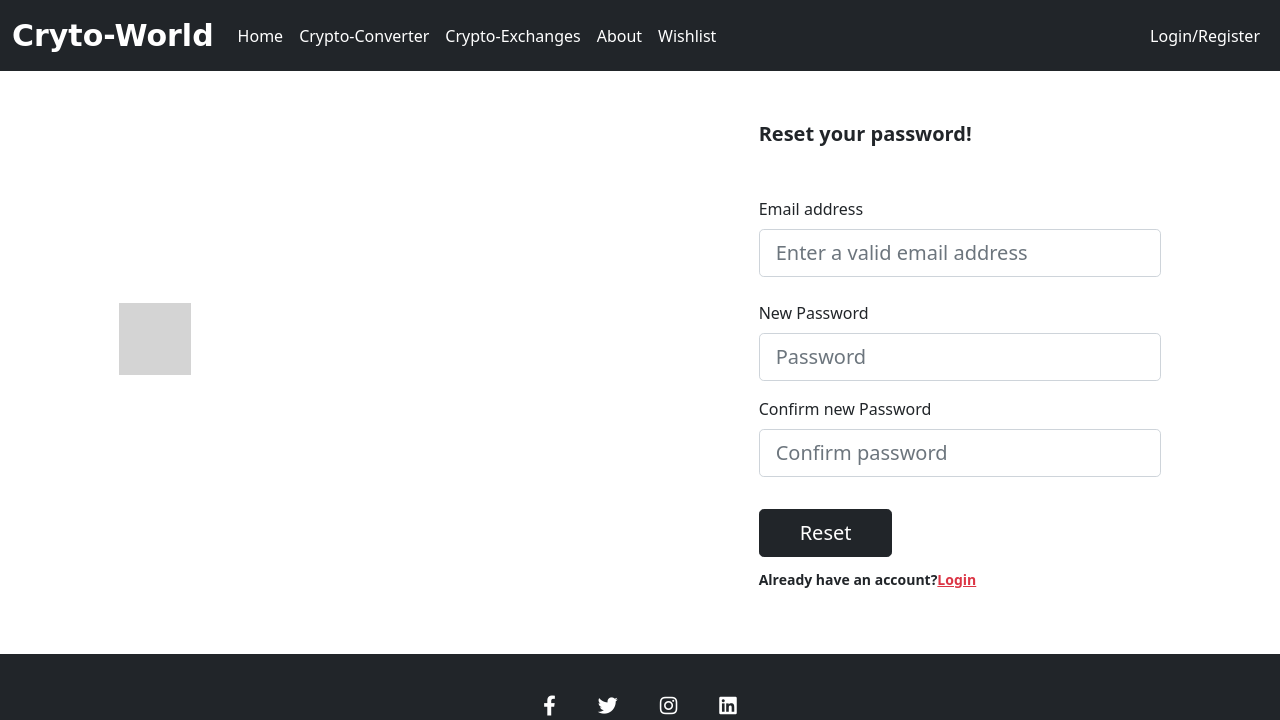
Crypto World e2e testing › Should check for reset passsword not match
Step 1. Type "tarun4@gmail.com" into the field with id "resetemail" → [961, 253], box top-left (759, 229), bottom-right (1162, 277)
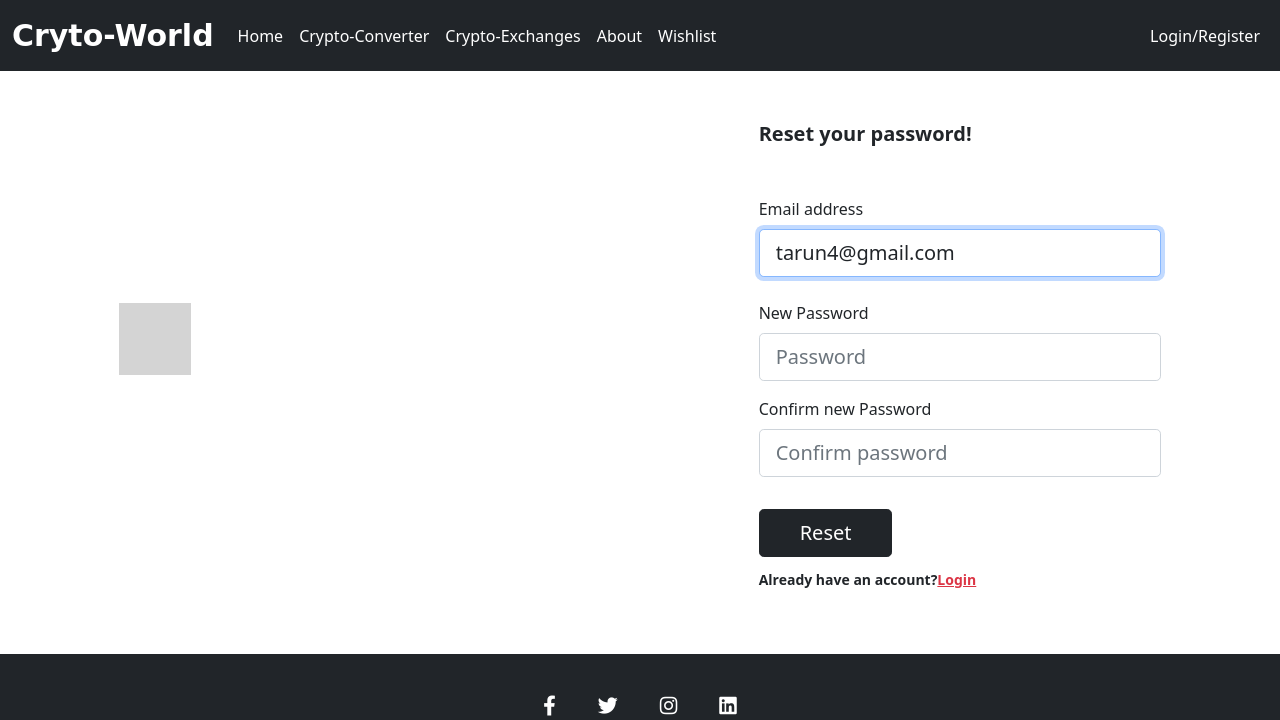
Step 2. Type "1234567" into the password field with id "newpass" → [961, 357], box top-left (759, 333), bottom-right (1162, 381)
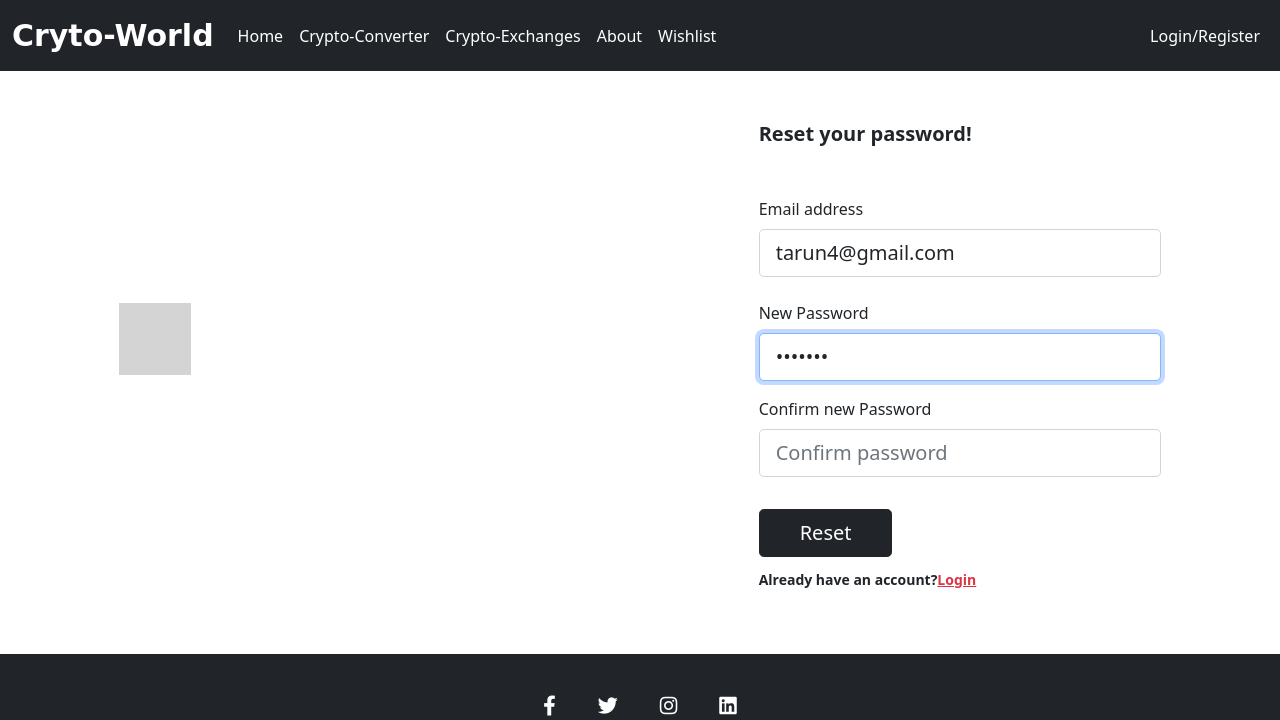
Step 3. Type "123456" into the password field with id "newconfirmpass" → [961, 453], box top-left (759, 429), bottom-right (1162, 477)
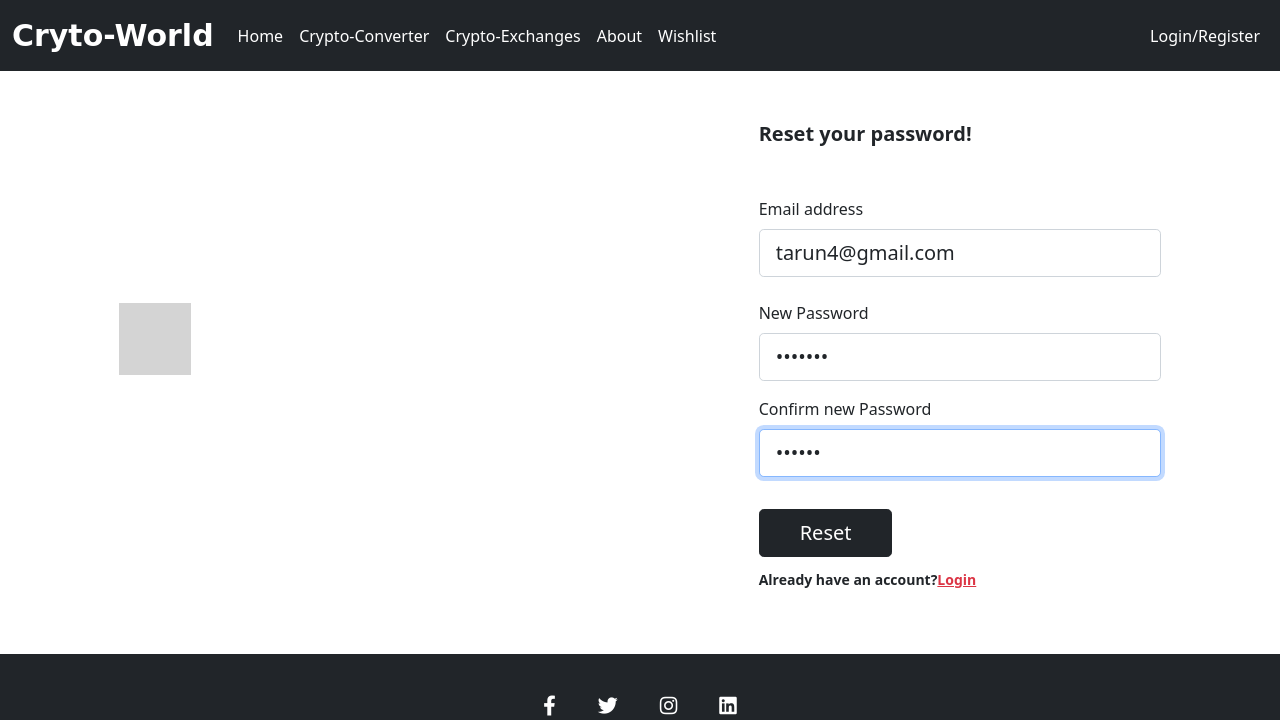
Step 4. Click the button with id "resetbtn" → [826, 533], box top-left (759, 509), bottom-right (893, 557)
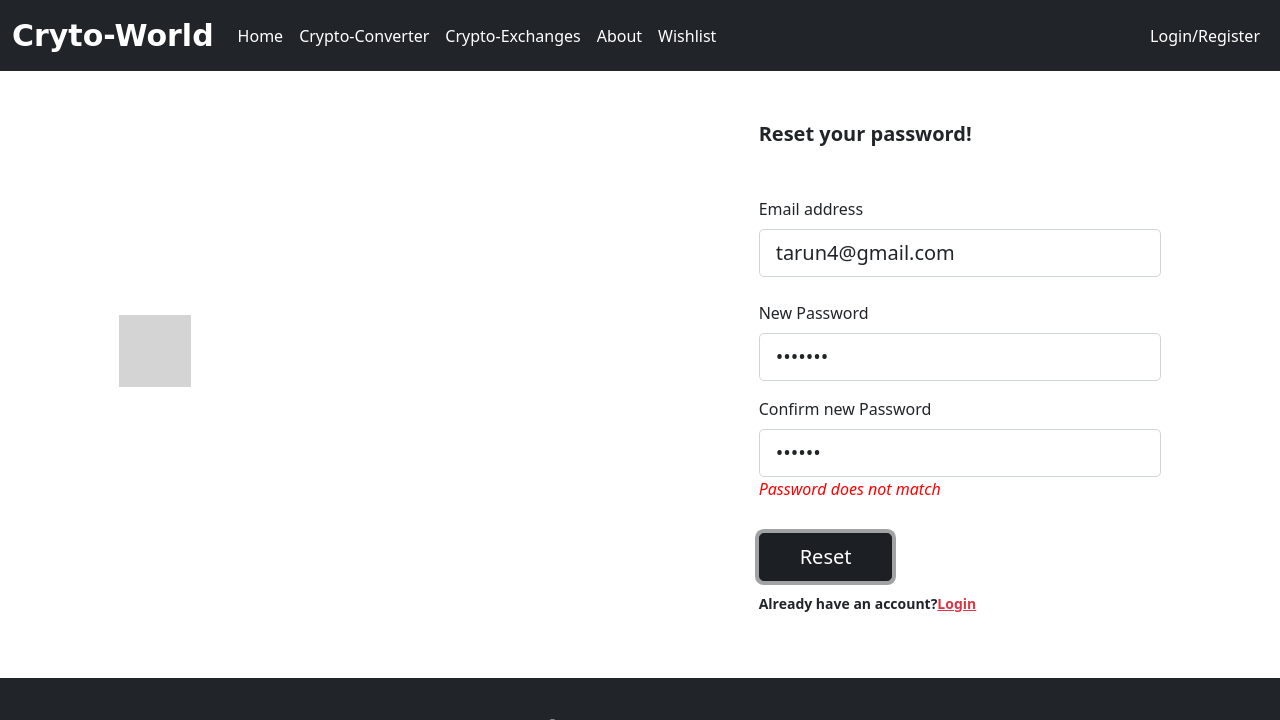
Expected: the text with id "confirmsg" reads "Password does not match", top-left (759, 478), bottom-right (941, 500)
